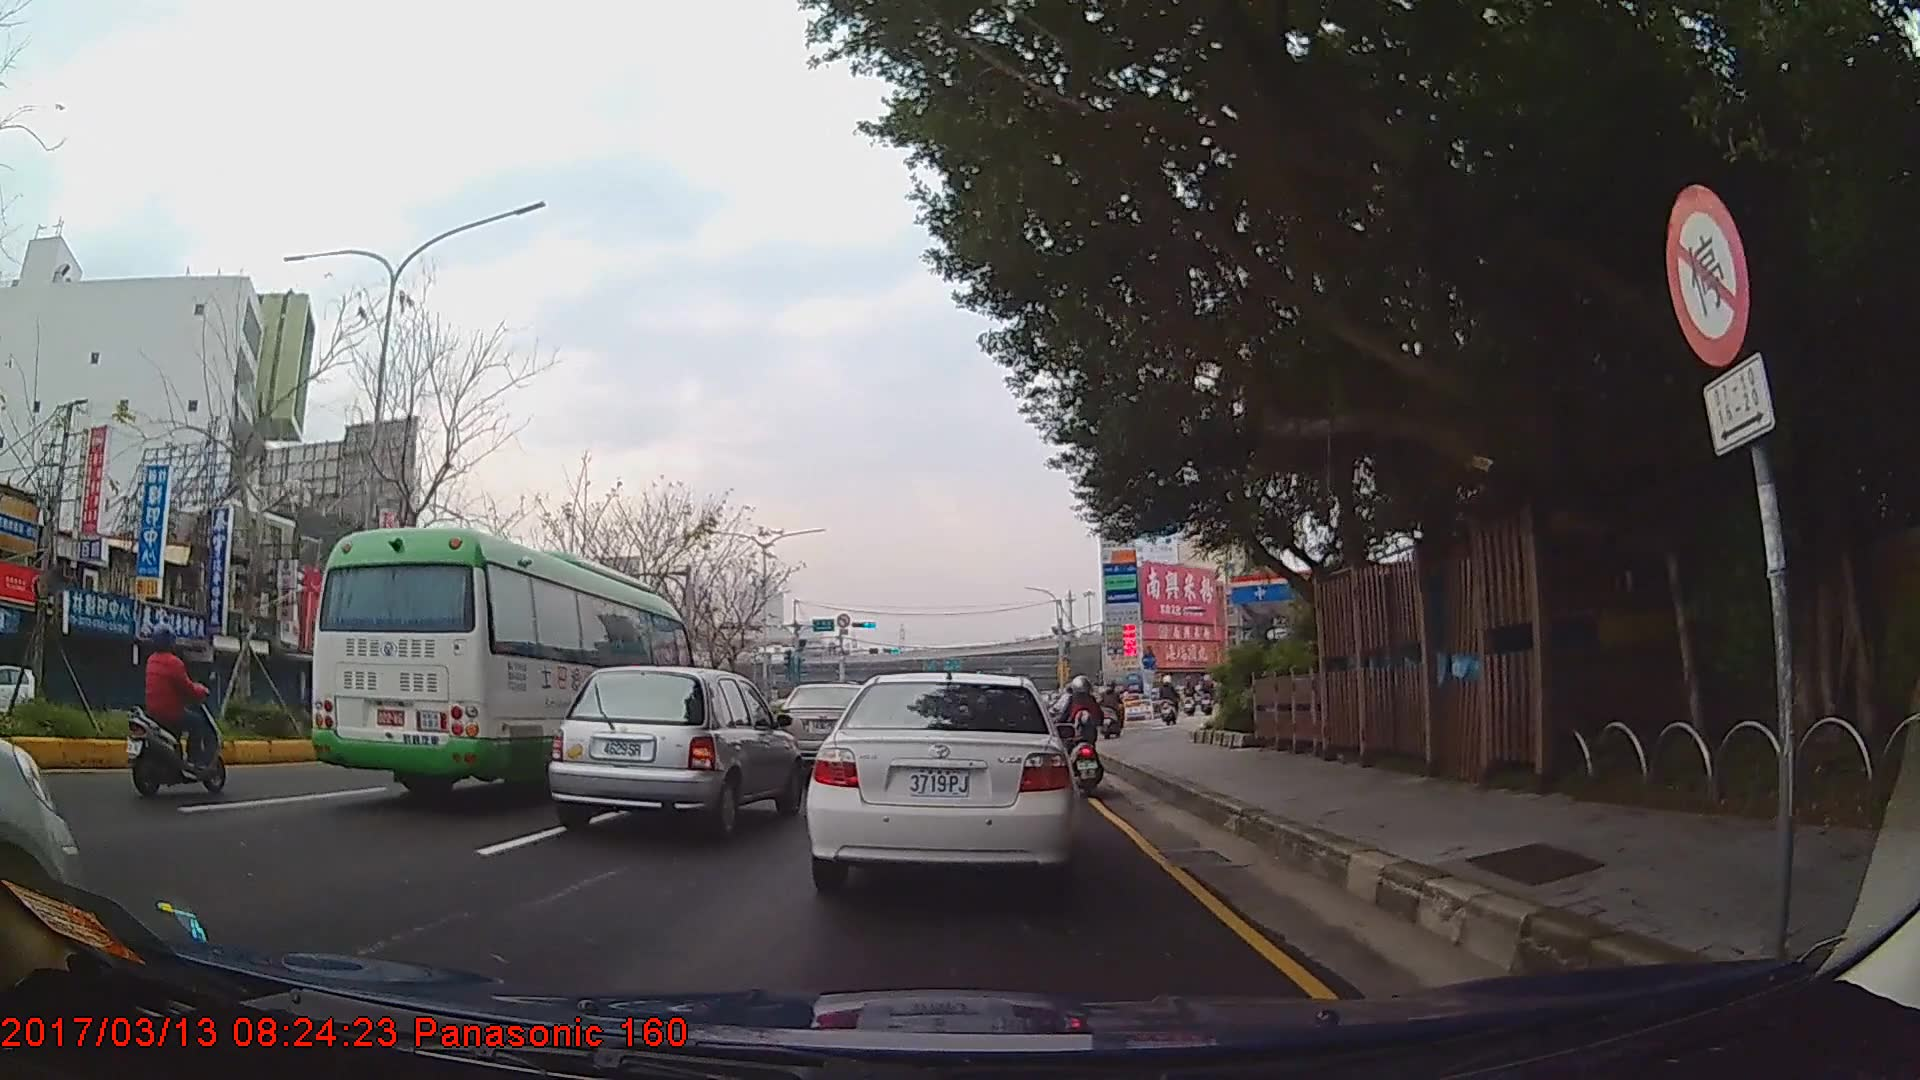rider: (130, 620, 233, 793), (1060, 672, 1106, 798), (1099, 678, 1127, 737), (1158, 675, 1180, 726)
vehicle: (310, 526, 696, 801), (803, 671, 1076, 893), (545, 659, 801, 836), (774, 678, 873, 769), (0, 662, 41, 724)
